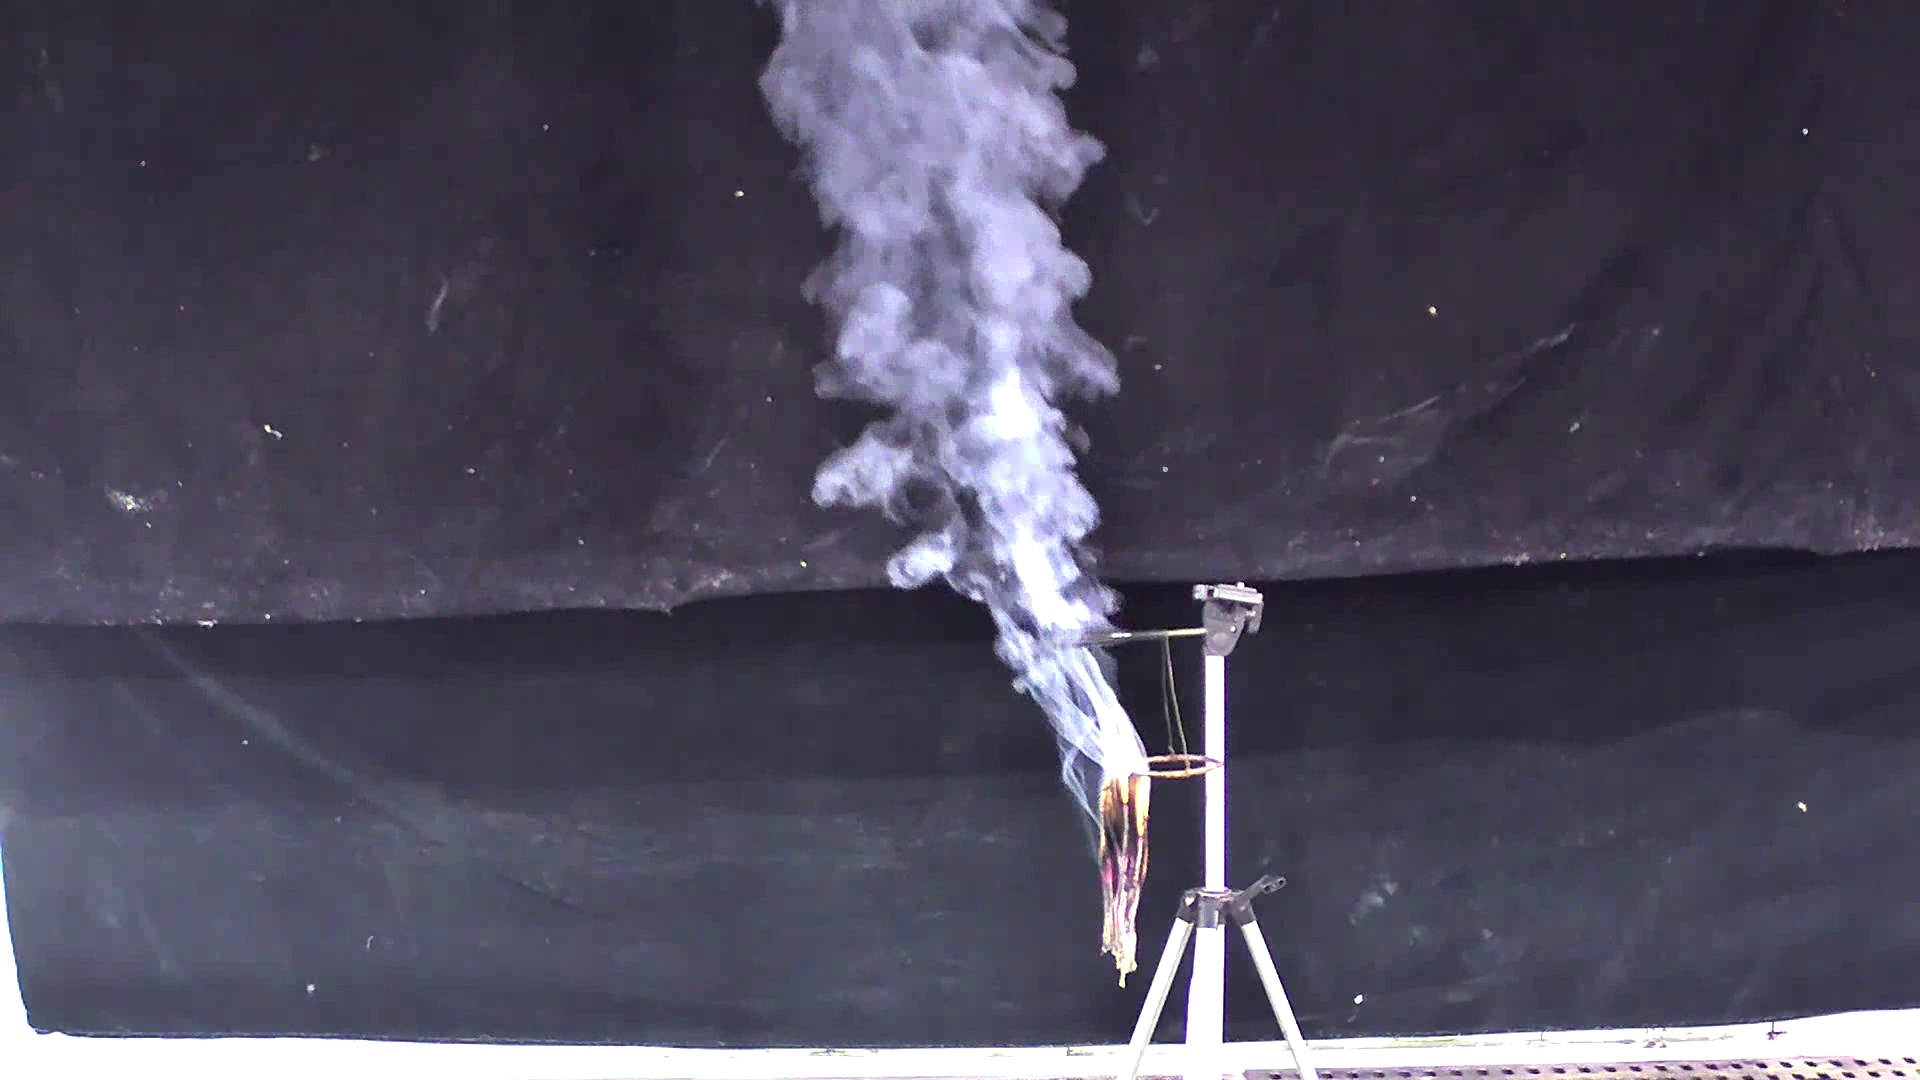smoke: (761, 5, 1167, 793)
